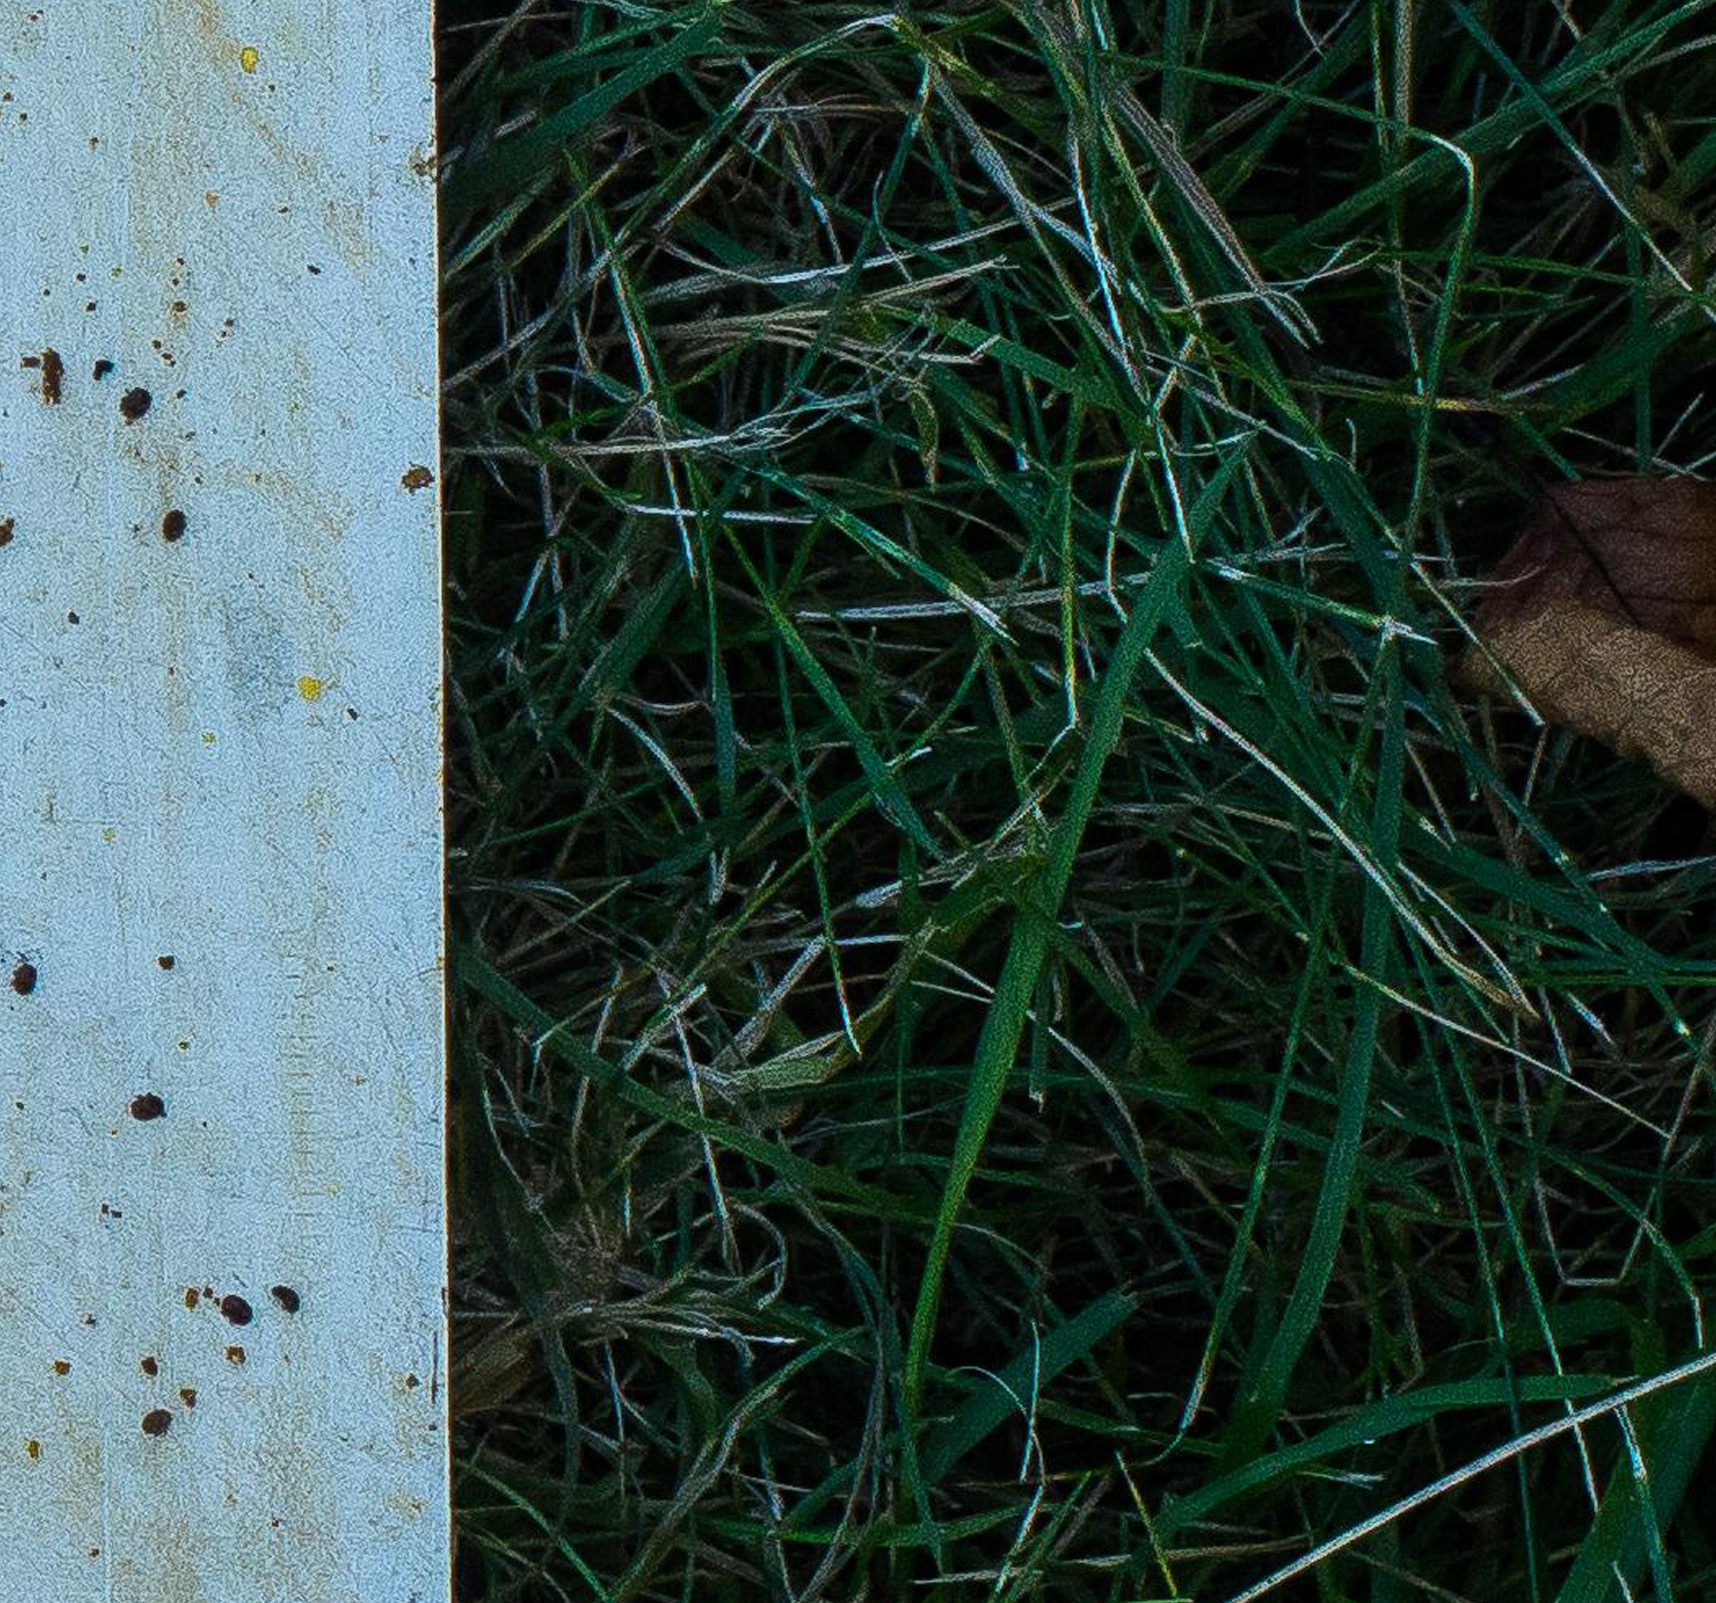Varroa: (133, 1394, 179, 1440), (154, 503, 200, 548), (2, 957, 48, 1002), (121, 1074, 167, 1119), (212, 1285, 259, 1330), (108, 377, 154, 420)
